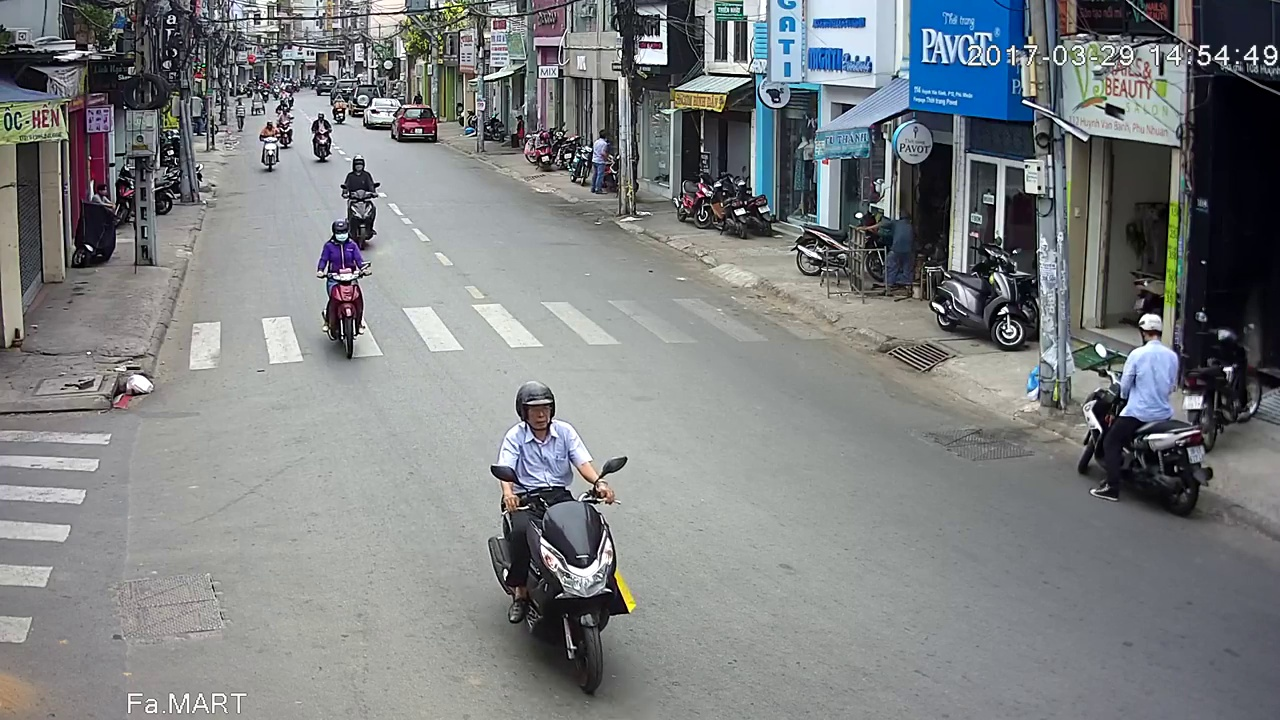motorcycle: (485, 377, 633, 696), (1078, 308, 1212, 519), (316, 219, 373, 359), (341, 154, 381, 249)
